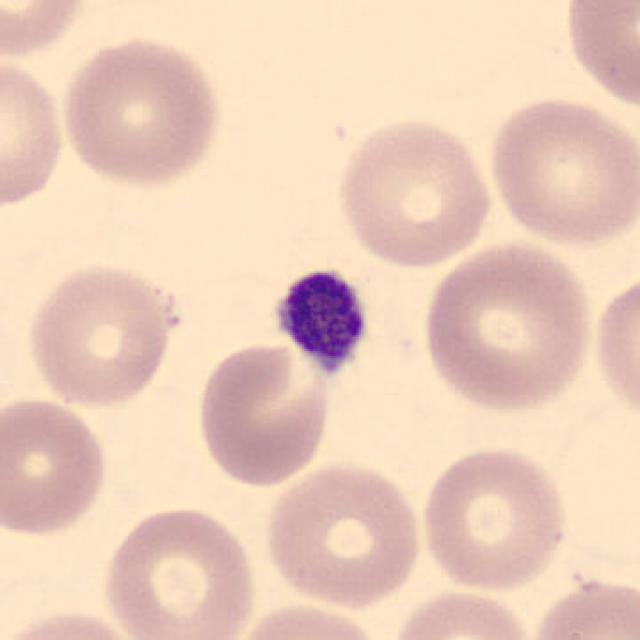Platelets: (263, 260, 377, 384)
RBC: (414, 236, 598, 416), (55, 32, 226, 190), (259, 456, 426, 612), (331, 113, 496, 270), (21, 257, 183, 411), (484, 92, 638, 250), (416, 441, 572, 594), (97, 500, 261, 640), (193, 338, 339, 488), (0, 393, 112, 541), (0, 52, 69, 213), (556, 0, 639, 116), (588, 264, 638, 432), (387, 585, 537, 640), (526, 573, 638, 640), (227, 597, 385, 640), (0, 0, 94, 62), (0, 604, 149, 640)
